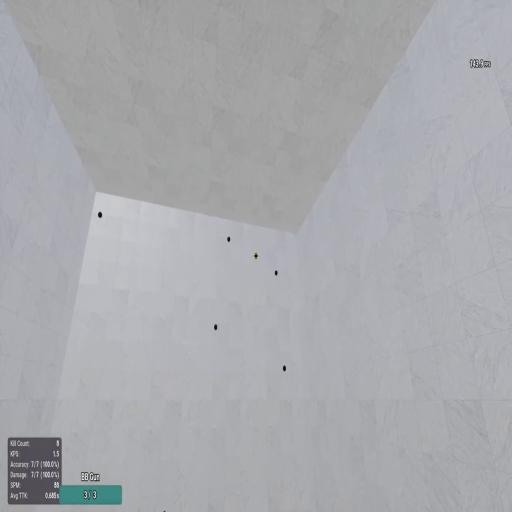Crosshair: (253, 251, 259, 261)
Target: (282, 364, 287, 373), (214, 322, 218, 332), (98, 210, 102, 220), (226, 236, 230, 244), (274, 269, 278, 276)
